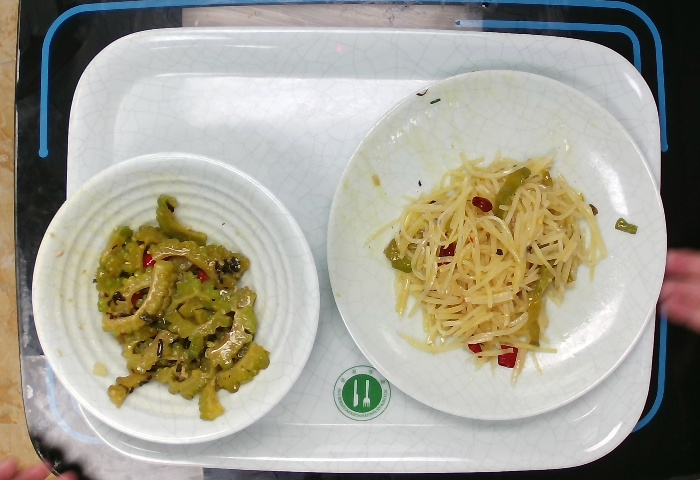JYsf-Da_Yuan_Pan: (314, 65, 674, 423)
JYsf-Xiao_Tang_Wan: (29, 150, 323, 447)
